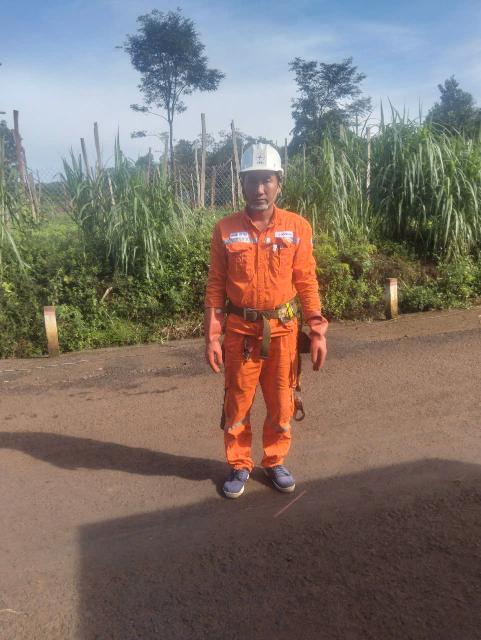gloves: (306, 312, 332, 379), (203, 305, 230, 369)
harness: (224, 298, 299, 325)
helmet: (232, 139, 290, 184)
shoes: (258, 449, 299, 497), (221, 451, 253, 500)
